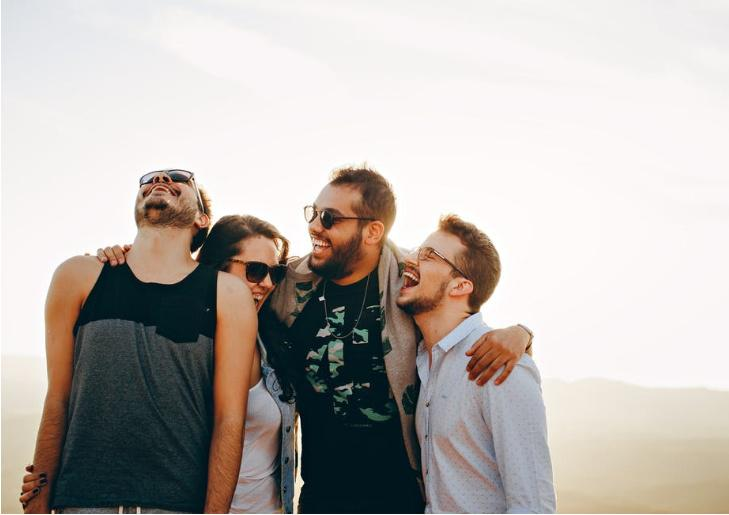face: (395, 232, 452, 308), (308, 187, 357, 273), (228, 237, 280, 316), (135, 170, 197, 224)
